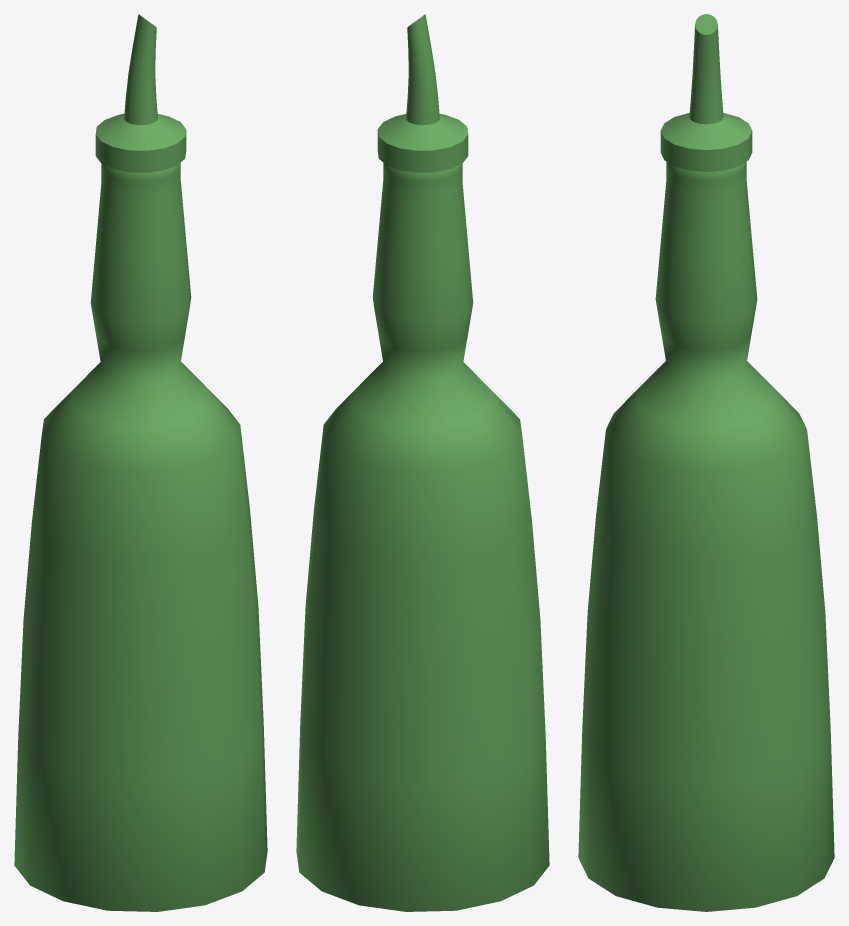
File: MOD_BAR LimeJuiceTransparent.fbx
3 renders of one model, left to right at view 1: azimuth 30°, elevation 25°; view 2: azimuth 150°, elevation 25°; view 3: azimuth 270°, elevation 25°, orthographic.
Visible parts, largest first — view 1: lime_juice, pourer4; view 2: lime_juice, pourer4; view 3: lime_juice, pourer4.
Part boxes in pixels (bbox=[...]): lime_juice: bbox=[14, 163, 267, 911]; pourer4: bbox=[95, 14, 186, 172]; lime_juice: bbox=[296, 163, 549, 911]; pourer4: bbox=[377, 14, 468, 172]; lime_juice: bbox=[578, 161, 834, 911]; pourer4: bbox=[660, 14, 752, 171].
Size of the model in its own units: 10.78 by 39.17 by 10.78.
